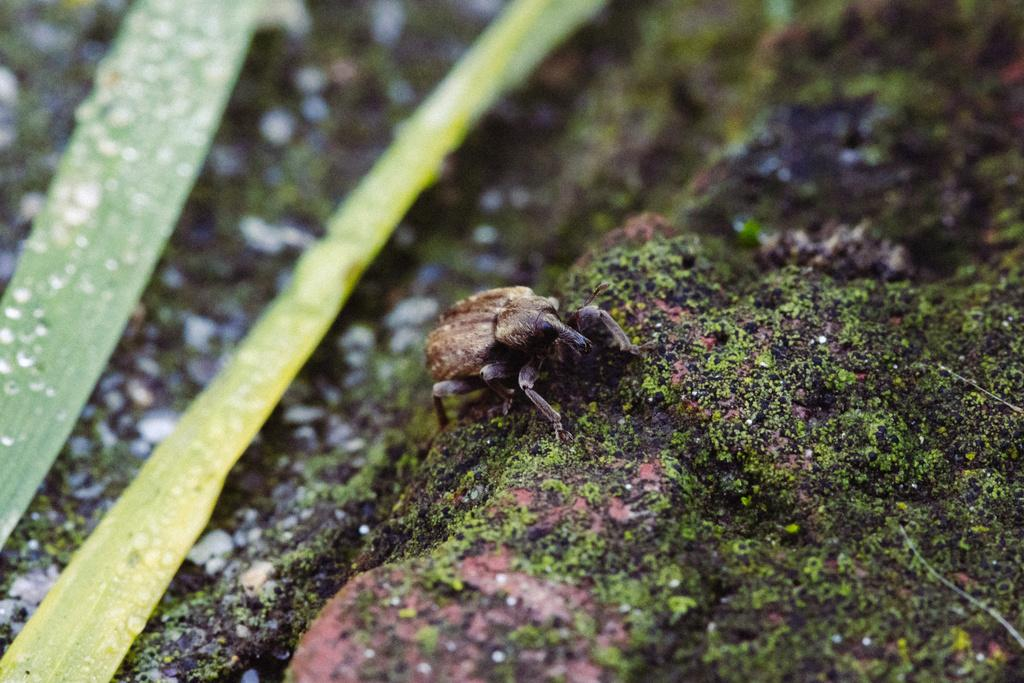weevils: (381, 251, 666, 460)
